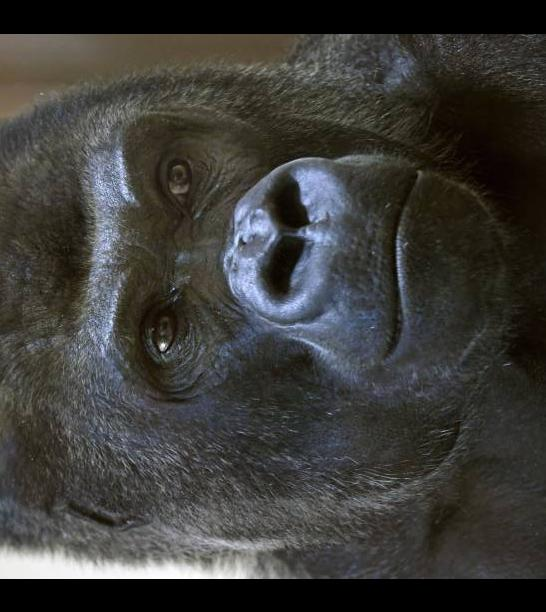gorille_Autres: (0, 33, 546, 569)
